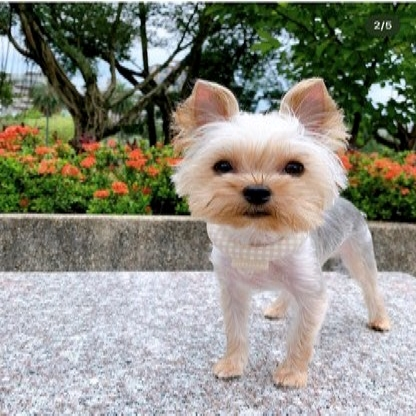yorkshire: (167, 75, 398, 394)
